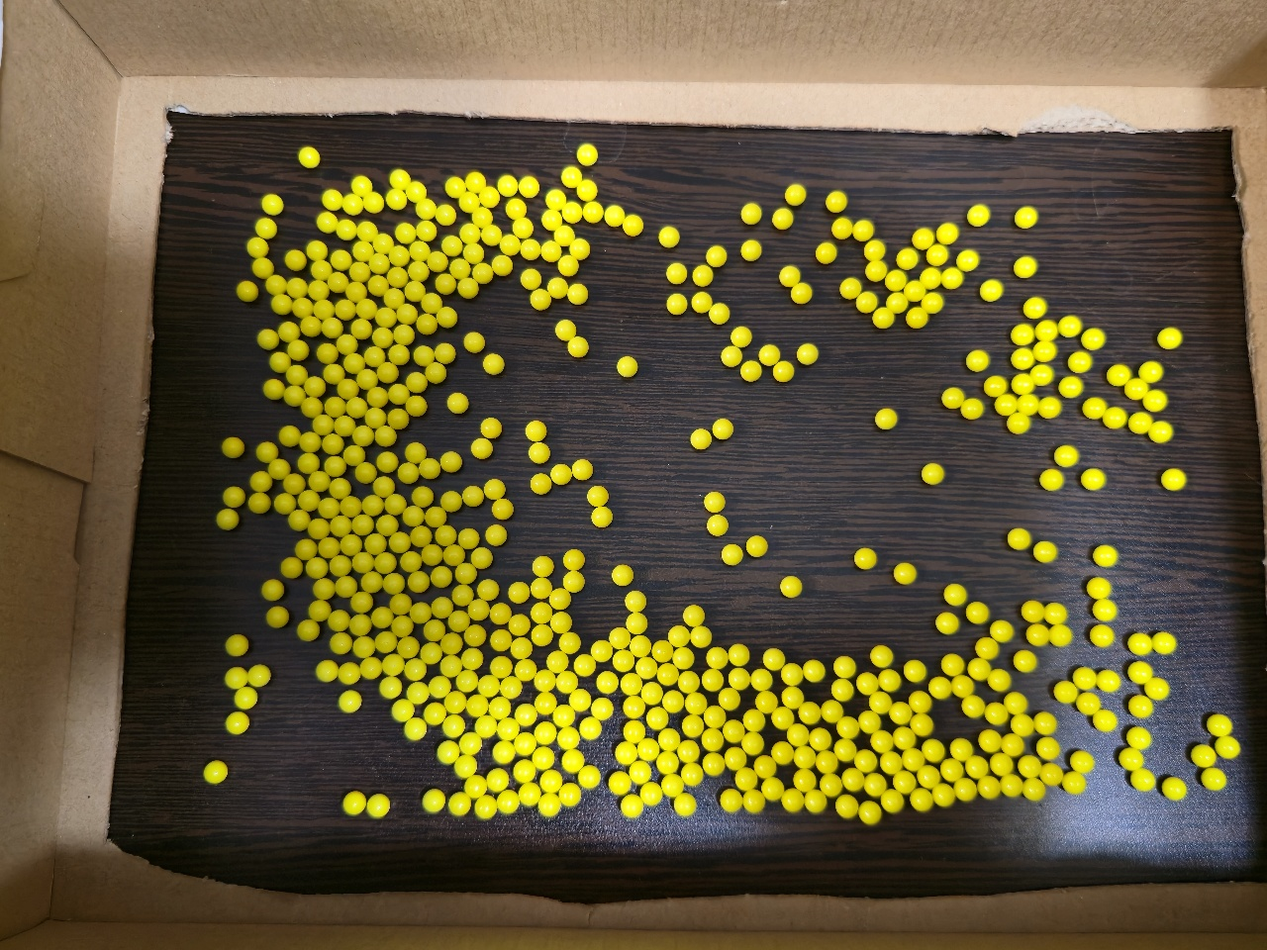yellow_bead: (693, 435, 703, 440), (557, 326, 567, 330), (469, 336, 475, 341), (728, 351, 733, 356), (803, 351, 809, 355), (573, 343, 580, 346), (671, 301, 678, 304), (624, 363, 629, 367), (611, 212, 616, 216), (711, 500, 717, 503), (415, 728, 419, 732), (633, 598, 637, 602), (470, 492, 474, 496), (445, 752, 450, 755), (599, 708, 604, 711), (388, 686, 393, 689), (714, 522, 719, 525), (478, 445, 483, 448), (785, 274, 790, 277), (377, 805, 380, 809), (451, 724, 455, 727), (442, 349, 446, 352), (573, 291, 579, 293), (583, 152, 589, 154), (522, 743, 527, 745), (577, 700, 582, 702), (716, 311, 721, 313), (536, 297, 541, 299), (527, 276, 532, 278), (348, 701, 351, 704), (414, 668, 417, 671), (729, 552, 732, 555), (698, 301, 702, 303), (673, 271, 677, 273), (498, 262, 502, 264), (471, 250, 475, 252), (748, 248, 752, 250), (527, 246, 531, 248), (666, 235, 670, 237), (489, 233, 493, 235), (433, 801, 436, 803), (417, 693, 420, 695), (325, 671, 328, 673), (519, 647, 522, 649), (486, 588, 489, 590), (361, 433, 364, 435), (415, 379, 418, 381), (492, 361, 495, 363), (554, 285, 557, 287), (714, 254, 717, 256), (450, 243, 453, 245), (629, 807, 634, 808), (576, 247, 581, 248), (560, 234, 565, 235), (497, 780, 499, 782), (465, 767, 467, 769), (470, 743, 472, 745), (508, 728, 510, 730), (523, 714, 525, 716), (511, 688, 513, 690), (466, 680, 468, 682), (257, 676, 259, 678), (698, 636, 702, 637), (634, 622, 638, 623), (539, 565, 541, 567), (361, 560, 363, 562), (494, 533, 496, 535), (450, 458, 452, 460), (536, 451, 538, 453), (373, 416, 375, 418), (724, 355, 726, 357), (766, 353, 770, 354), (331, 325, 333, 327), (482, 270, 484, 272), (565, 263, 569, 264), (568, 210, 572, 211), (426, 207, 428, 209), (552, 198, 556, 199), (398, 176, 400, 178), (568, 175, 572, 176), (401, 711, 404, 712), (498, 709, 501, 710), (687, 682, 690, 683), (440, 607, 443, 608), (463, 572, 466, 573), (480, 557, 483, 558), (402, 332, 405, 333), (465, 285, 468, 286), (781, 217, 784, 218), (443, 213, 446, 214), (527, 185, 530, 186), (459, 805, 460, 807), (503, 752, 505, 753), (485, 726, 487, 727), (842, 667, 844, 668), (450, 666, 452, 667), (431, 653, 433, 654), (636, 645, 637, 647), (421, 611, 422, 613), (492, 488, 494, 489), (578, 469, 580, 470), (884, 418, 886, 419), (455, 402, 457, 403), (435, 370, 437, 371), (422, 353, 424, 354), (406, 312, 408, 313), (431, 301, 433, 302), (459, 265, 460, 267), (508, 242, 510, 243), (748, 212, 749, 214), (795, 192, 797, 193), (686, 806, 687, 807), (509, 803, 510, 804), (591, 778, 592, 779), (818, 739, 819, 740), (421, 734, 422, 735), (245, 699, 246, 700), (439, 687, 440, 688), (735, 678, 736, 679), (235, 678, 236, 679), (811, 671, 812, 672), (393, 664, 394, 665), (879, 656, 880, 657), (679, 635, 680, 636), (458, 619, 459, 620), (690, 615, 691, 616), (570, 581, 571, 582), (418, 580, 419, 581), (619, 574, 620, 575), (316, 566, 317, 567), (227, 519, 228, 520), (593, 495, 594, 496), (557, 473, 558, 474), (386, 460, 387, 461), (533, 429, 534, 430), (345, 342, 346, 343), (737, 335, 738, 336), (896, 301, 897, 302), (393, 296, 394, 297), (990, 289, 991, 290), (445, 282, 446, 283), (378, 261, 379, 262), (383, 241, 384, 242), (469, 232, 470, 233), (523, 226, 524, 227), (1028, 216, 1029, 217), (416, 190, 417, 191), (507, 183, 508, 184), (308, 155, 309, 156)
